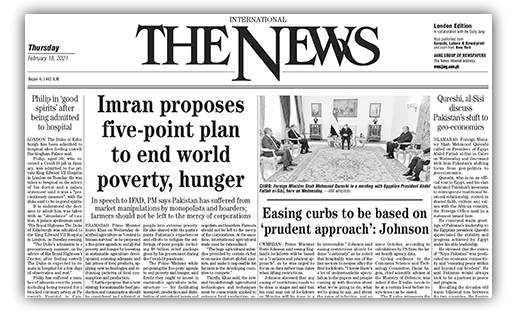news_paper: (14, 1, 516, 312)
